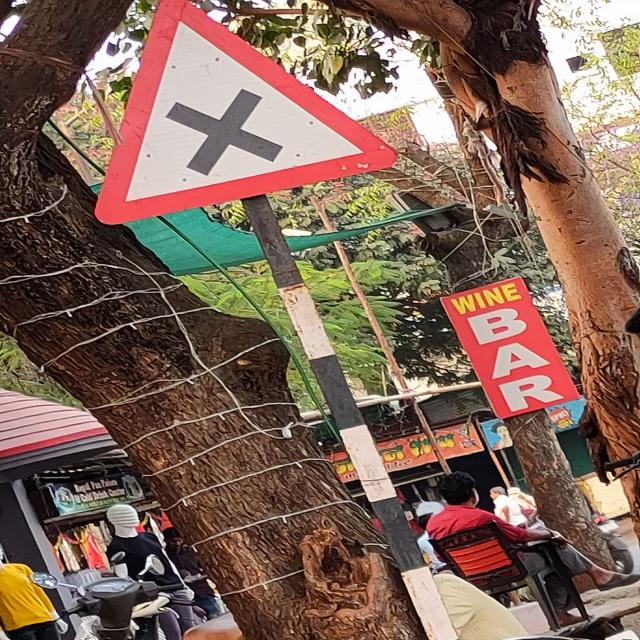cross_road: (94, 2, 399, 227)
